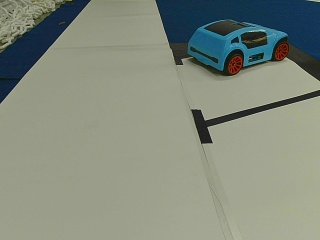car: (187, 20, 288, 75)
